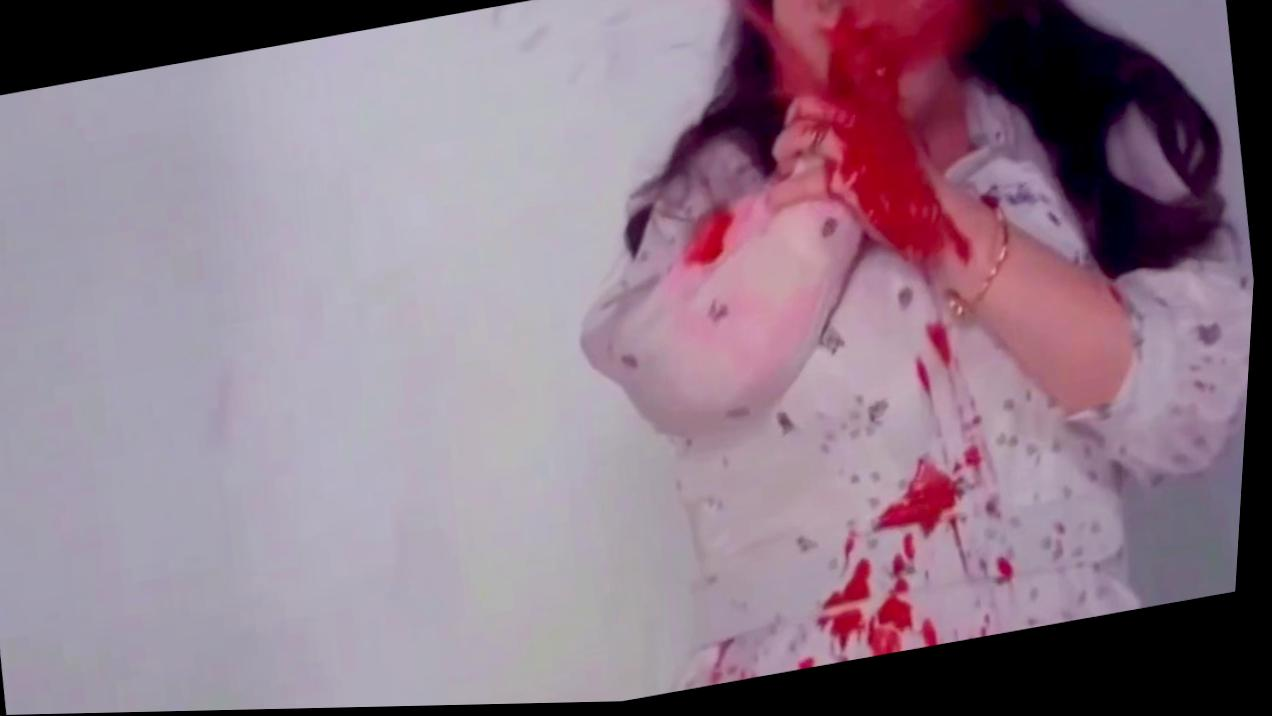Fire: (695, 0, 1146, 689), (671, 125, 813, 273)
